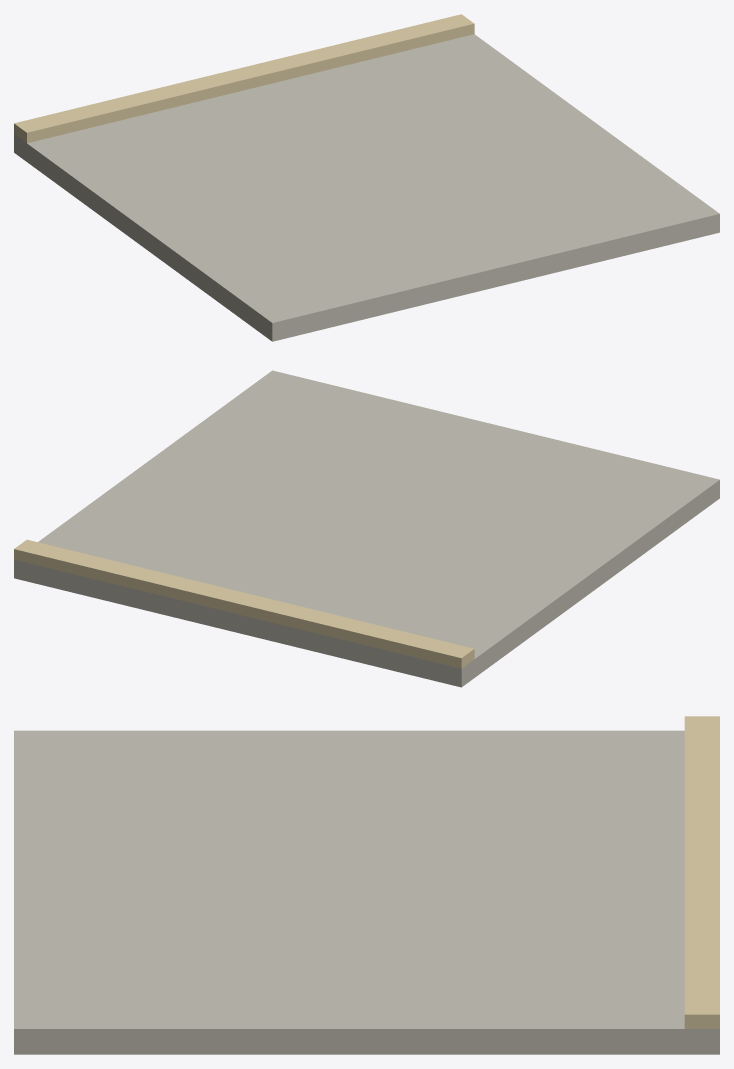
The model's file is zoo-and-safari-park-builder-path-t-9a658fa4__21488.glb.
3 renders of one model, top to bottom at view 1: azimuth 30°, elevation 25°; view 2: azimuth 150°, elevation 25°; view 3: azimuth 270°, elevation 25°, orthographic. The views are drawn at different scales.
Parts seen in each view (by area): view 1: path-t; view 2: path-t; view 3: path-t.
Part boxes in pixels (box(x1,y1,x2,y2)): path-t: box(14, 14, 719, 341); path-t: box(14, 370, 719, 687); path-t: box(14, 716, 719, 1054).
Size of the model in its own units: 2 by 0.125 by 2.
